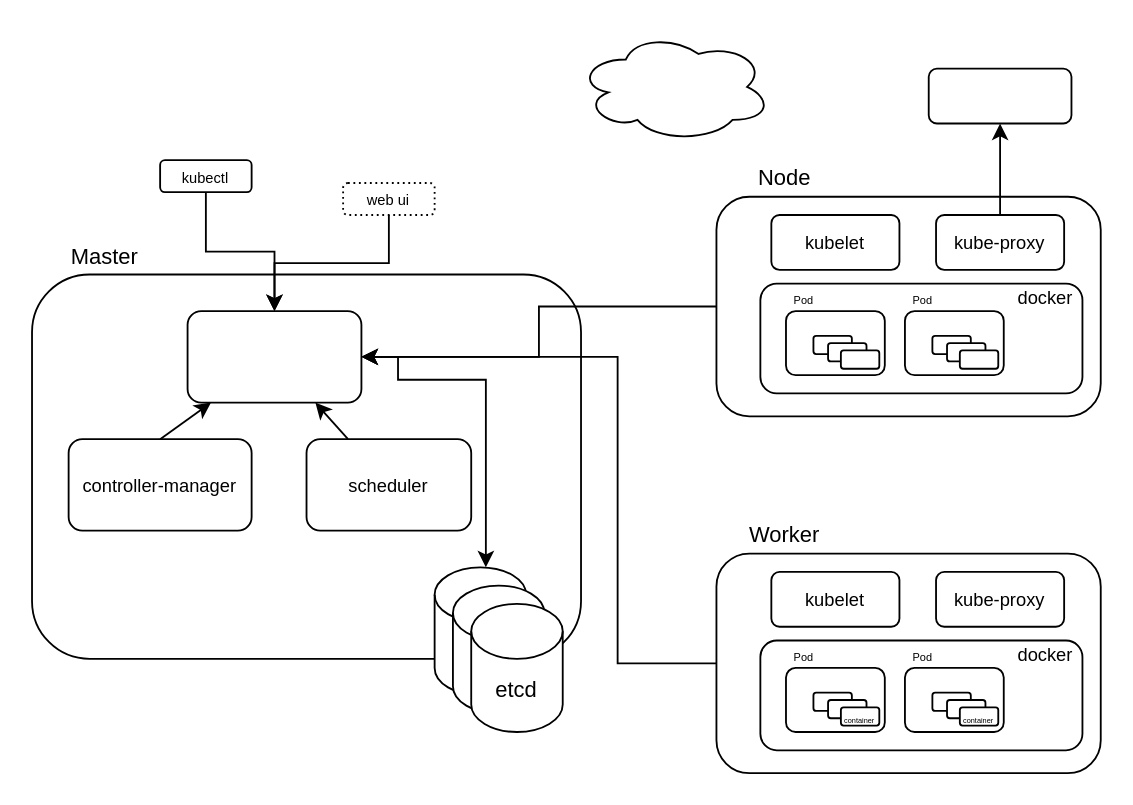
Image size: 1133x805. Some labels were removed from this diagram. The shapes that lost their labels are listed below. From the top down, each one's box as (x1, y1, x2, y2) in pixels, then its label:
(576, 30, 771, 142): internet
(927, 67, 1071, 124): firewall
(186, 309, 361, 403): API server
